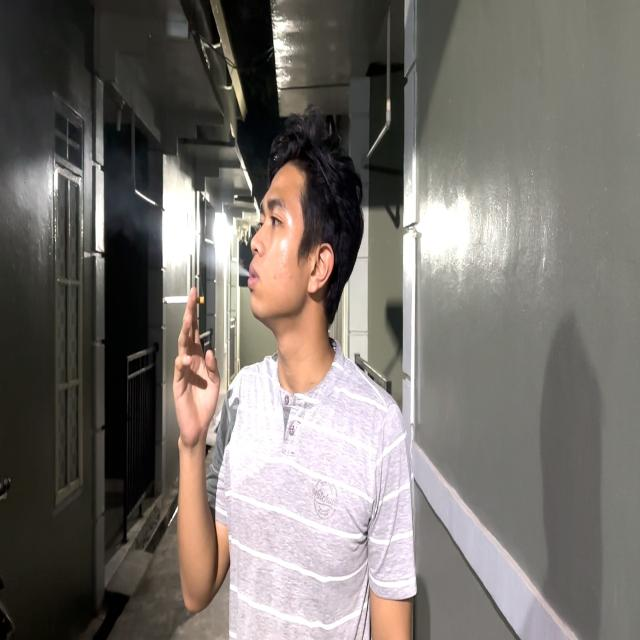cigarette: (159, 290, 212, 322)
smoking: (146, 90, 379, 633)
